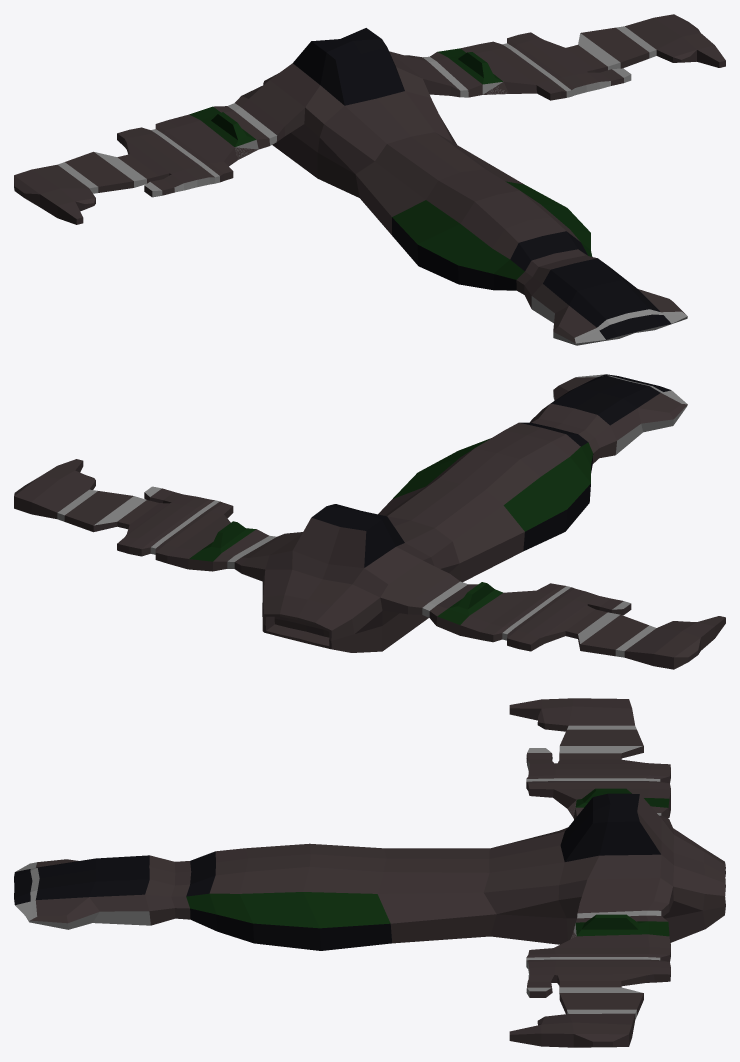
Rendered from HumanFighter.fbx.
3 renders of one model, top to bottom at view 1: azimuth 30°, elevation 25°; view 2: azimuth 150°, elevation 25°; view 3: azimuth 270°, elevation 25°, orthographic. The views are drawn at different scales.
Parts seen in each view (by area): view 1: HumanFighter; view 2: HumanFighter; view 3: HumanFighter.
Part boxes in pixels (x1,y1,x2,y2): HumanFighter: (14,14,725,345); HumanFighter: (14,374,725,669); HumanFighter: (14,698,725,1047).
Size of the model in its own units: 22.98 by 3.66 by 20.2.
